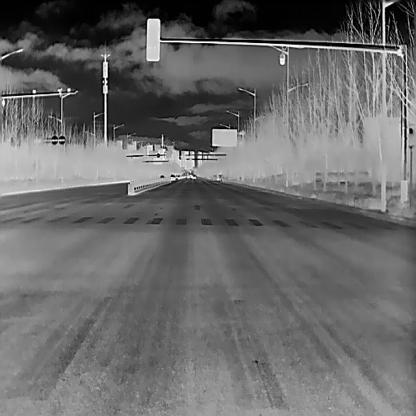car: (169, 173, 174, 180), (191, 173, 196, 178), (159, 174, 164, 177)
